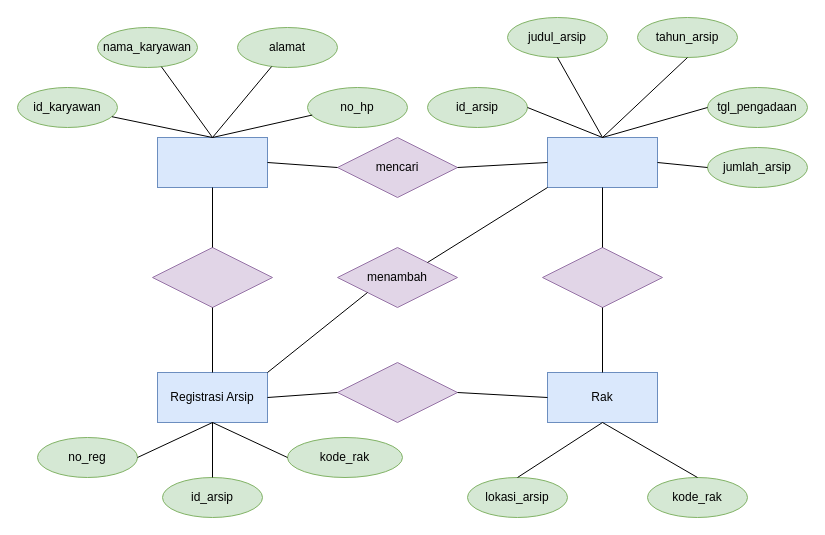
Image size: 825x535. Some labels were removed from this diagram. The shapes that lost their labels are listed below. From the top down, each one's centre as x and y in pixels, then its label:
point 212,162: Karyawan
point 602,162: Arsip
point 212,277: melakukan
point 602,277: mendapatkan
point 397,392: memberikan
